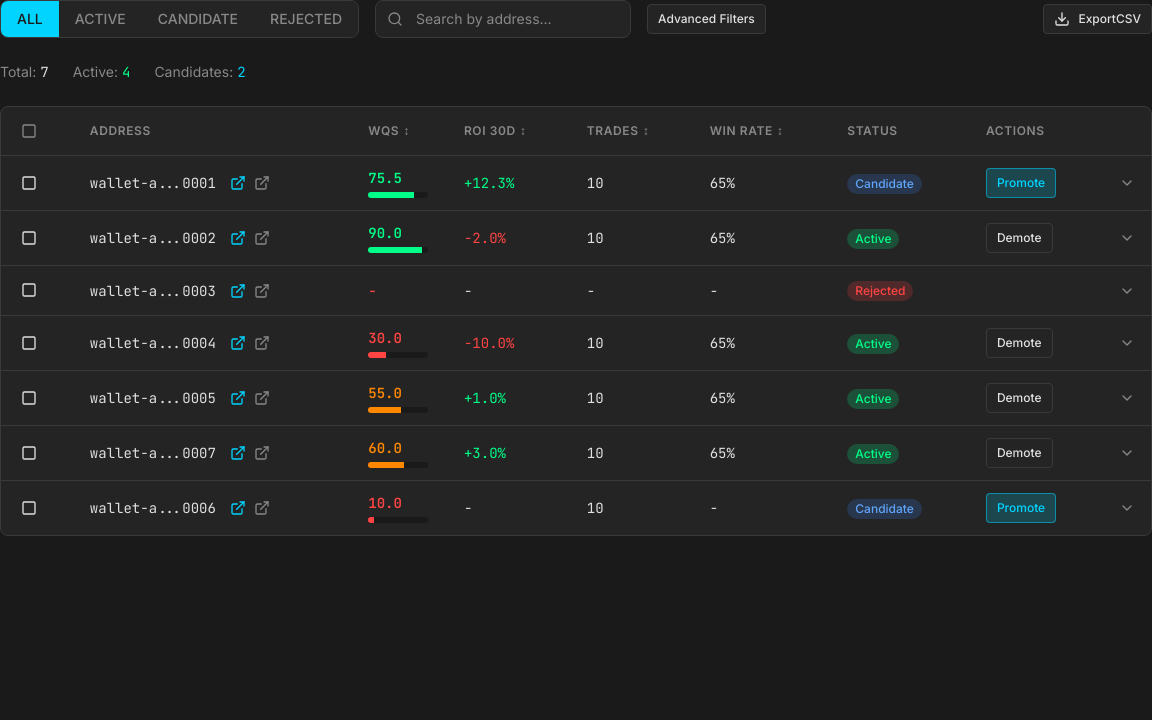
Test: Wallets › expands a wallet row to show details and trades
Click the text "wallet-a...0001".
click(123, 183)  # box [90,174,216,192]
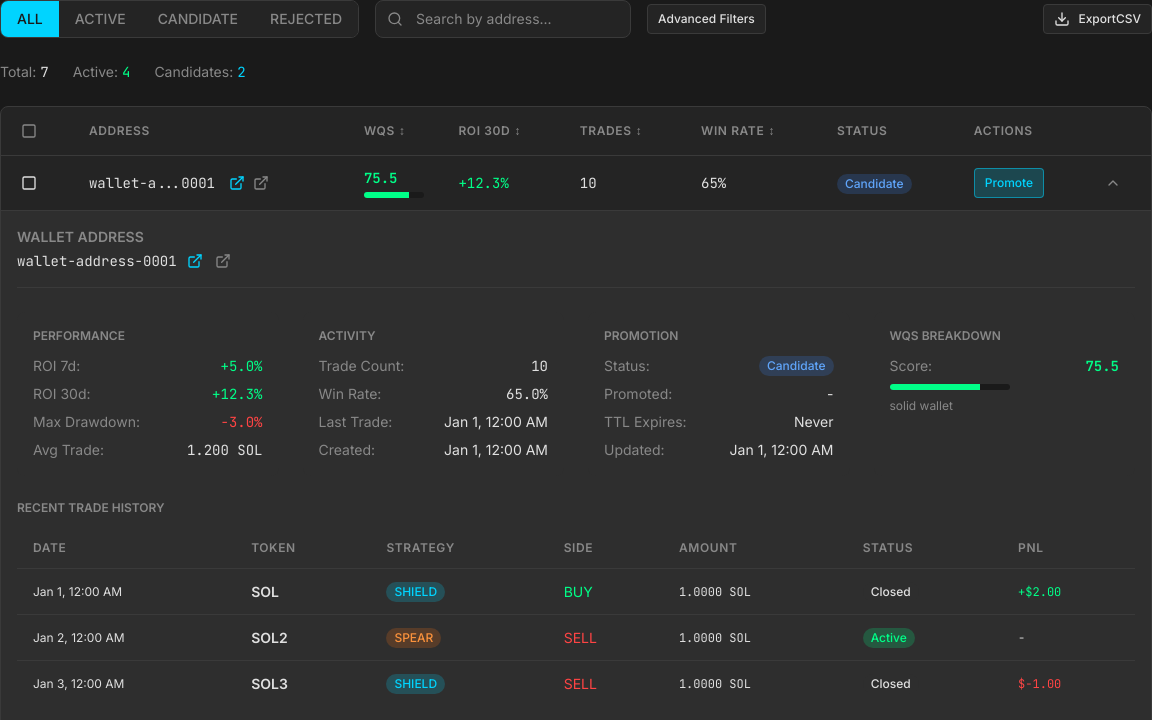
Now the heading "Performance" is shown, box [33,328,125,343]
Now the heading "Activity" is shown, box [318,328,376,343]
Now the heading "WQS Breakdown" is shown, box [890,328,1001,343]
Click the text "wallet-a...0001".
click(123, 183)  # box [89,174,215,192]
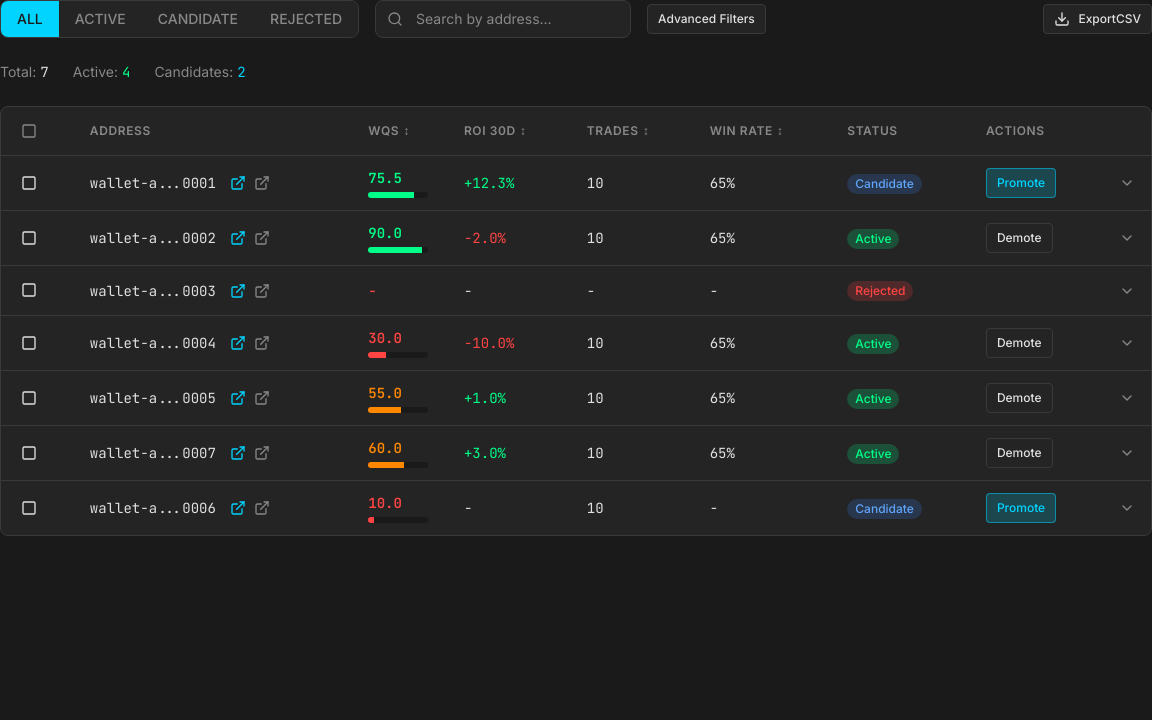
Now the heading "WQS Breakdown" is gone
